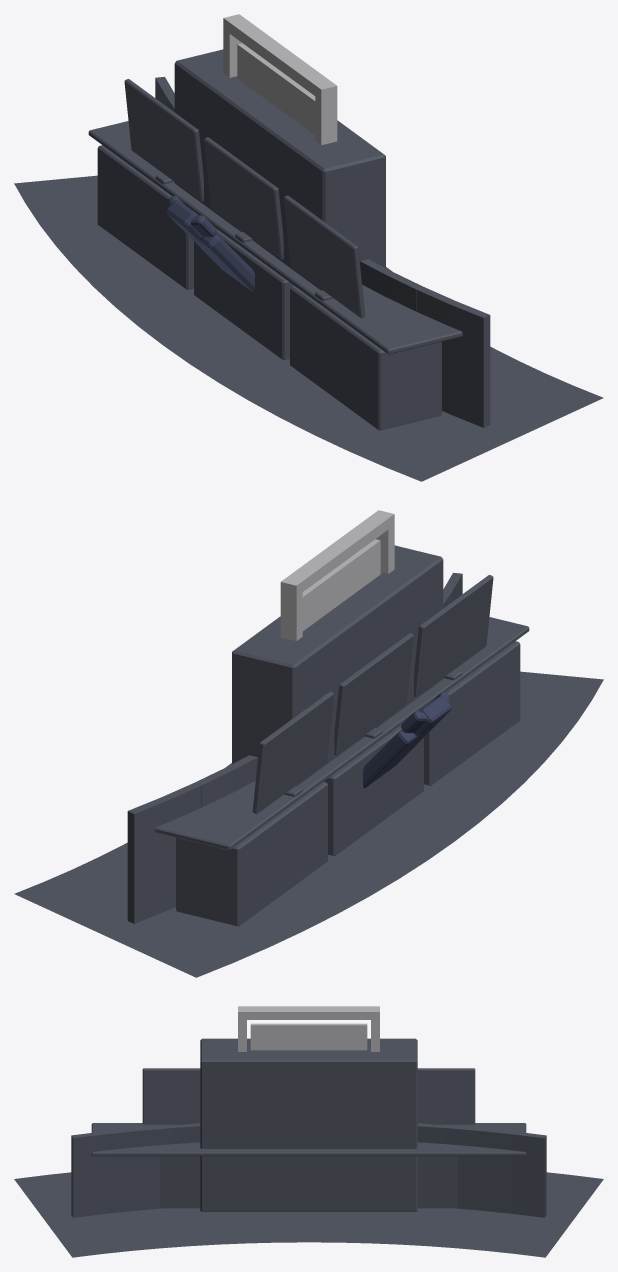
Rendered from sala_domo_piezas.fbx.
The picture shows the model from 3 angles, top to bottom: view 1: azimuth 30°, elevation 25°; view 2: azimuth 150°, elevation 25°; view 3: azimuth 270°, elevation 25°; orthographic projection. The views are drawn at different scales.
Visible parts, largest first — view 1: SM_ControlPiso, SM_Consola, SM_Rack, SM_Monitores, SM_Antepecho, SM_Puerta, SM_Butaca; view 2: SM_ControlPiso, SM_Consola, SM_Rack, SM_Monitores, SM_Antepecho, SM_Puerta, SM_Butaca; view 3: SM_Rack, SM_ControlPiso, SM_Antepecho, SM_Consola, SM_Monitores, SM_Puerta.
Boxes of the visible parts, box(x1,y1,x2,y2) form: SM_ControlPiso: box(14, 175, 603, 481); SM_Consola: box(88, 121, 462, 430); SM_Rack: box(174, 49, 385, 290); SM_Monitores: box(124, 79, 365, 318); SM_Antepecho: box(155, 76, 490, 427); SM_Puerta: box(223, 14, 337, 145); SM_Butaca: box(166, 196, 254, 291); SM_ControlPiso: box(14, 671, 603, 977); SM_Consola: box(155, 617, 529, 926); SM_Rack: box(232, 545, 443, 786); SM_Monitores: box(252, 575, 493, 814); SM_Antepecho: box(127, 572, 462, 923); SM_Puerta: box(280, 510, 394, 641); SM_Butaca: box(363, 692, 451, 787); SM_Rack: box(200, 1038, 417, 1211); SM_ControlPiso: box(14, 1172, 603, 1257); SM_Antepecho: box(71, 1123, 546, 1217); SM_Consola: box(91, 1123, 526, 1208); SM_Monitores: box(142, 1068, 475, 1124); SM_Puerta: box(238, 1006, 379, 1051).
Size of the model in its own units: 261 by 665 by 240.
